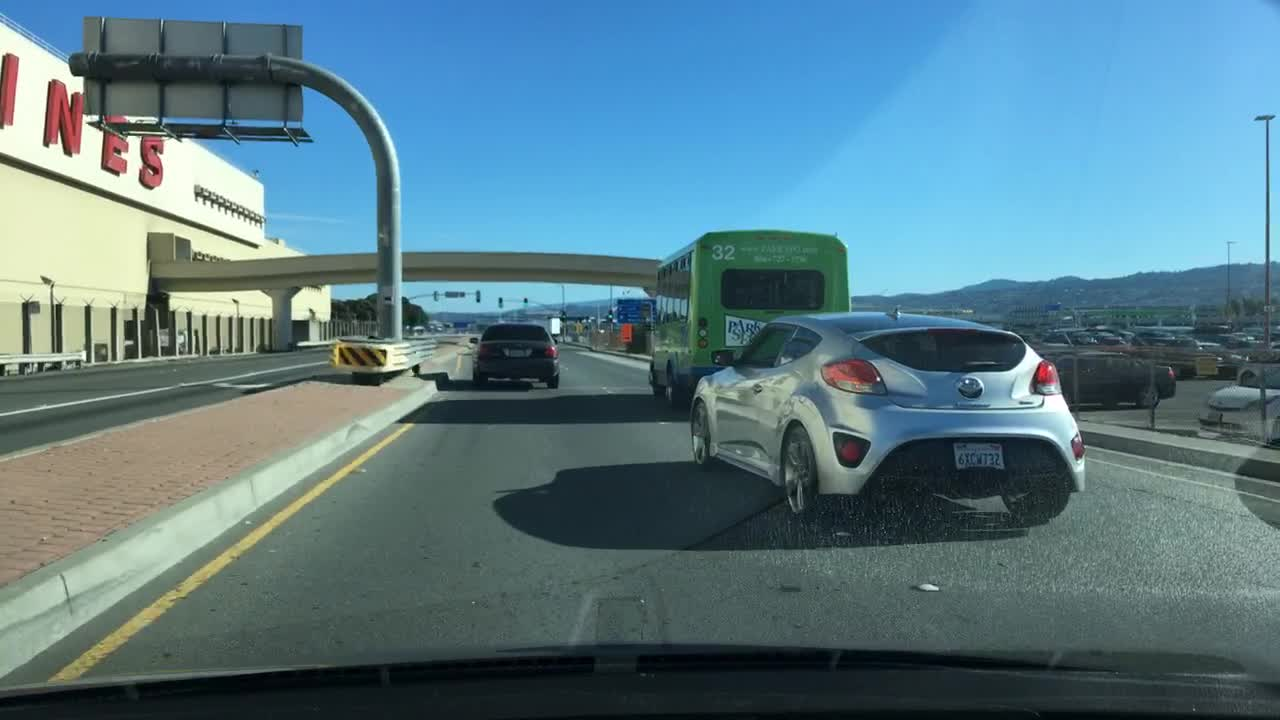bus: (646, 225, 852, 411)
car: (687, 308, 1088, 523), (1045, 347, 1178, 408), (466, 321, 564, 389), (1196, 384, 1277, 446), (1232, 345, 1277, 387), (1092, 325, 1138, 347), (1045, 330, 1098, 348), (1171, 332, 1223, 349), (1132, 328, 1173, 348), (1217, 330, 1261, 347)
traffic light: (475, 290, 483, 305), (496, 297, 505, 308), (521, 297, 530, 308), (433, 291, 439, 301)
traffic sign: (82, 15, 315, 149), (615, 297, 656, 323), (443, 291, 468, 297)
